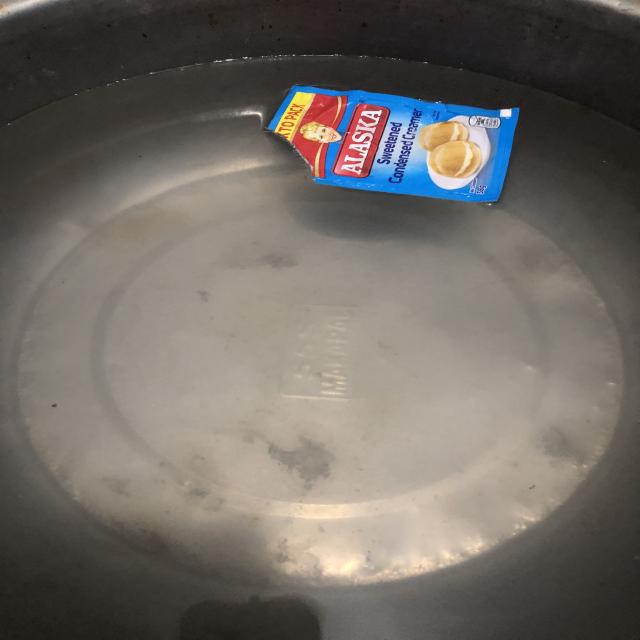Plastic Wrapper: (267, 80, 531, 209)
